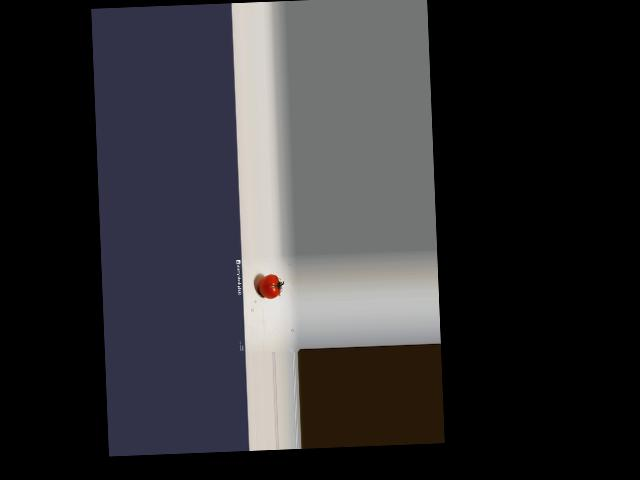tomato: (257, 274, 280, 299)
